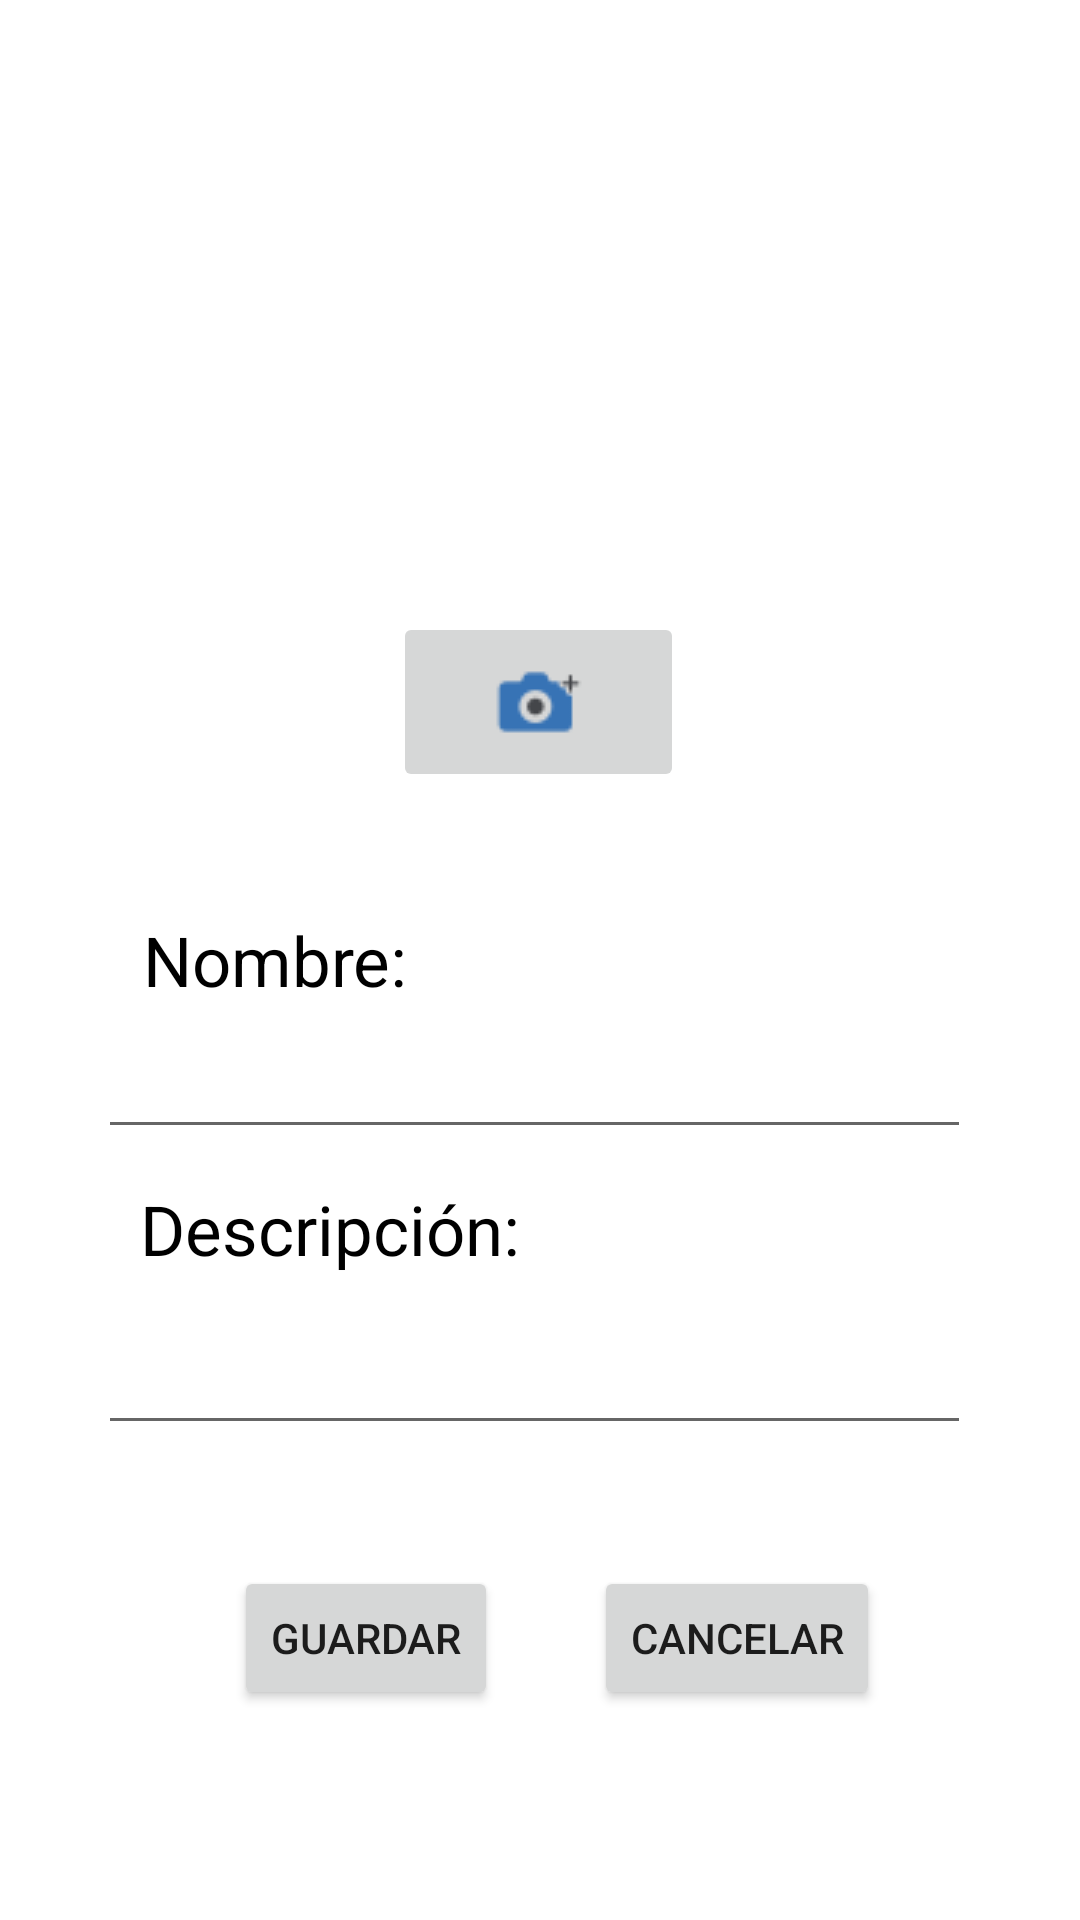

Point at icon controls on the screen. Image size 1080 x 1920, points as (x,y).
foto: (538,702)
